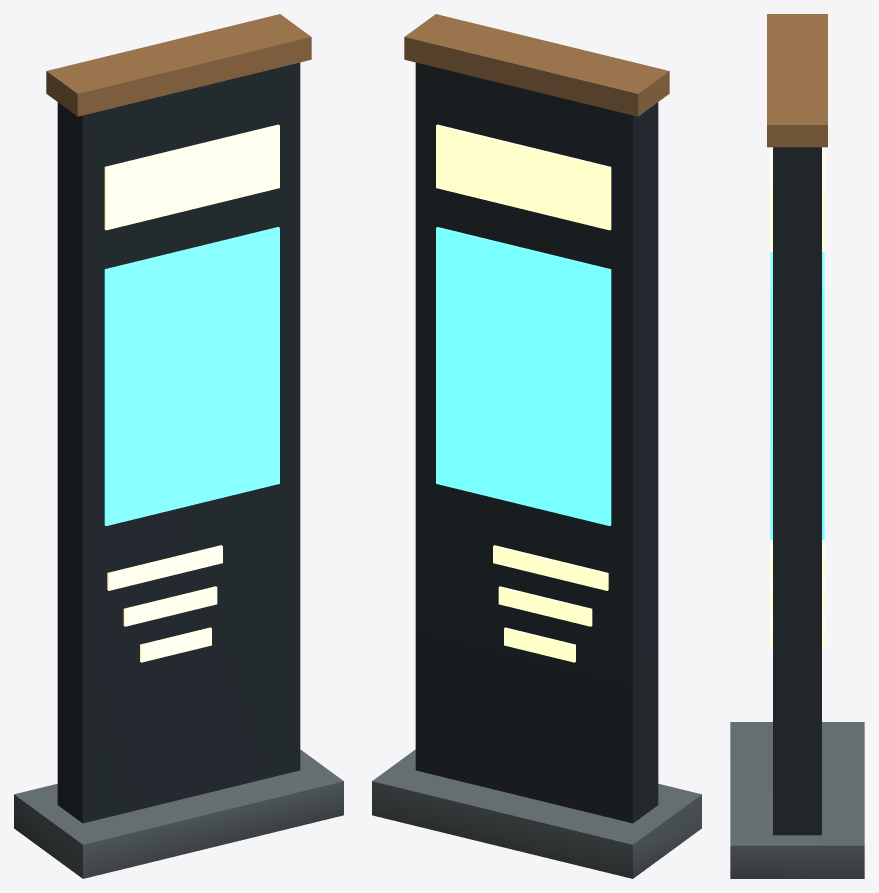
File: info-pylon.lod1.glb
The picture shows the model from 3 angles, left to right: view 1: azimuth 30°, elevation 25°; view 2: azimuth 150°, elevation 25°; view 3: azimuth 270°, elevation 25°; orthographic projection. The views are drawn at different scales.
Parts seen in each view (by area): view 1: structure; view 2: structure; view 3: structure.
Boxes of the visible parts, x1,y1,x2,y2 form: structure: [14, 14, 343, 878]; structure: [372, 14, 701, 878]; structure: [730, 14, 864, 878].
Size of the model in its own units: 0.96 by 2.7 by 0.44.
